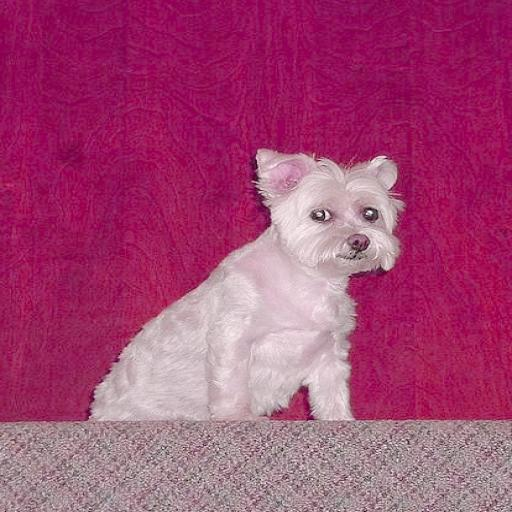dog_face: (248, 141, 412, 282)
